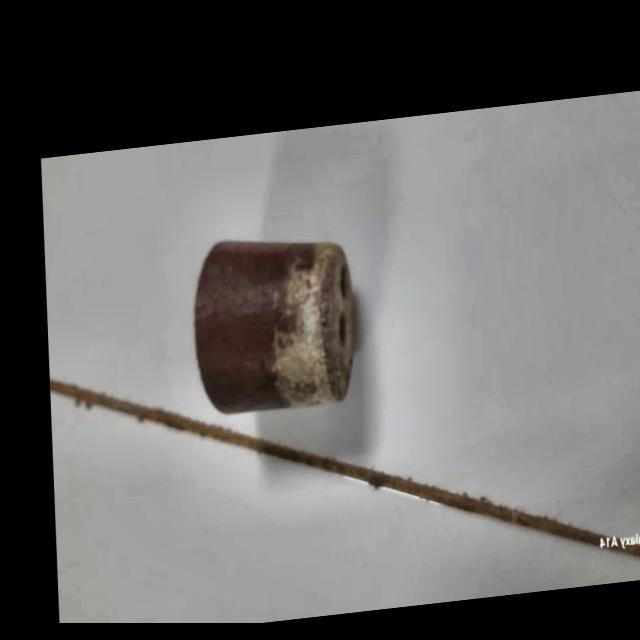Stopper: (189, 225, 362, 424)
